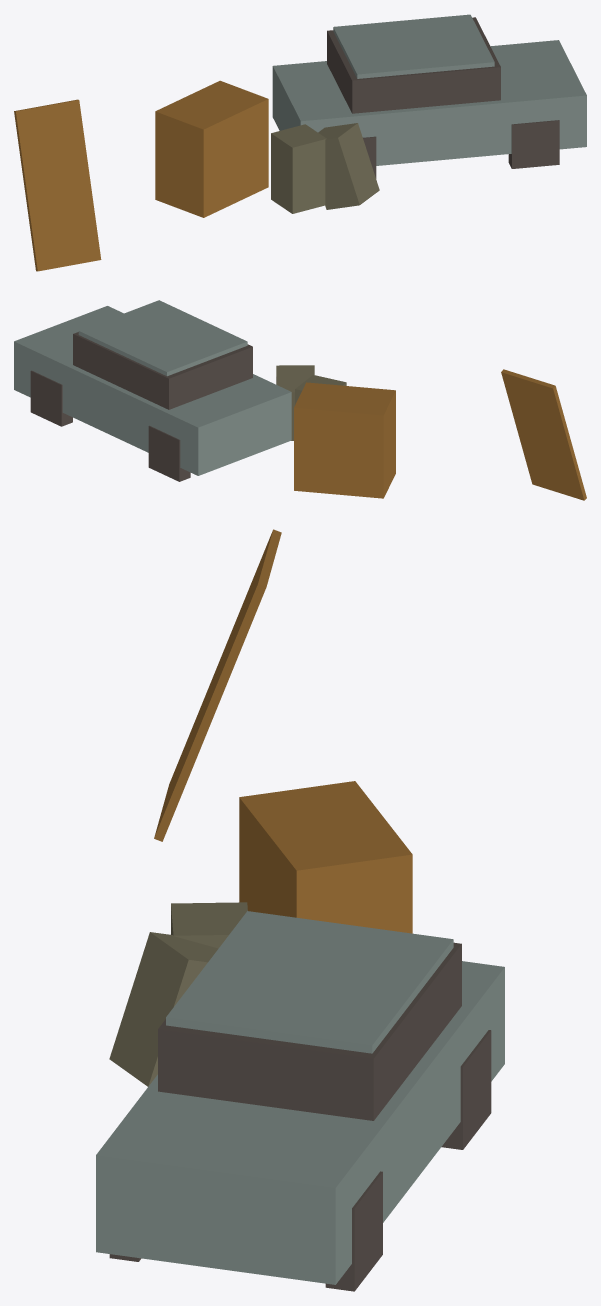
The model's file is SM_BarricadaCivil_v4_Mixta_e1_Danado_LOD0.fbx.
3 renders of one model, top to bottom at view 1: azimuth 30°, elevation 25°; view 2: azimuth 150°, elevation 25°; view 3: azimuth 270°, elevation 25°, orthographic. The views are drawn at different scales.
Visible parts, largest first — view 1: SM_barricada_civil_v17_LOD0; view 2: SM_barricada_civil_v17_LOD0; view 3: SM_barricada_civil_v17_LOD0.
Boxes of the visible parts, <box> form: SM_barricada_civil_v17_LOD0: <box>14,14,586,271</box>; SM_barricada_civil_v17_LOD0: <box>14,300,586,500</box>; SM_barricada_civil_v17_LOD0: <box>96,529,504,1291</box>.
Bounding box in the file's own units: 8.03 × 2.01 × 2.68.
